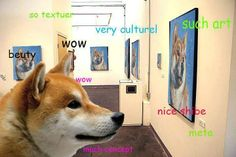doge: (1, 45, 134, 157)
